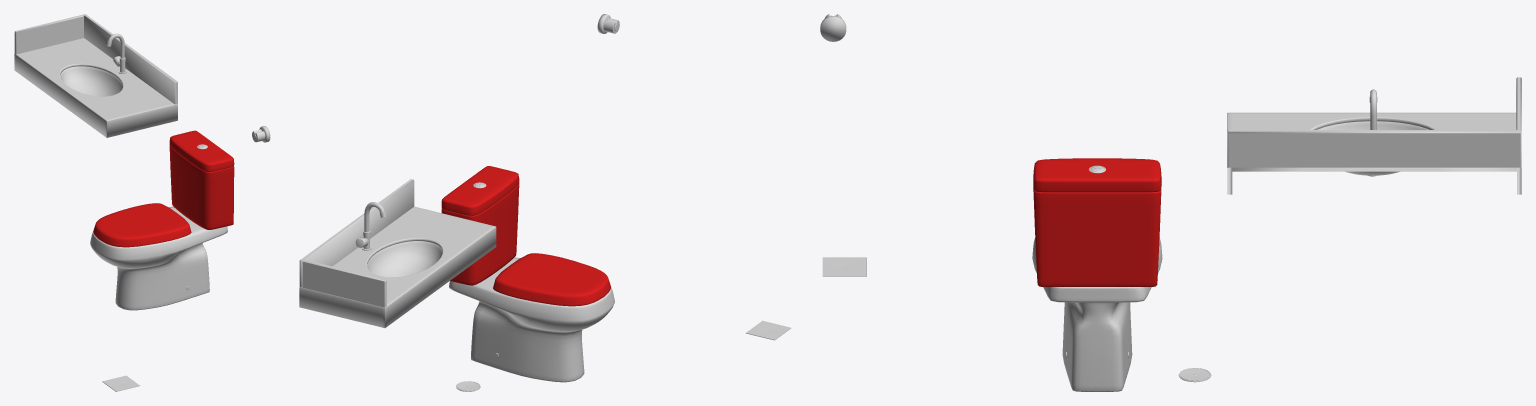
The model's file is SD_BanheiroSuite_ObjetosReflex.fbx.
The picture shows the model from 3 angles, left to right: view 1: azimuth 30°, elevation 25°; view 2: azimuth 150°, elevation 25°; view 3: azimuth 270°, elevation 25°; orthographic projection. The views are drawn at different scales.
Parts seen in each view (by area): view 1: SD_BanheiroSuite_ObjetosReflex; view 2: SD_BanheiroSuite_ObjetosReflex; view 3: SD_BanheiroSuite_ObjetosReflex.
Boxes of the visible parts, x1,y1,x2,y2 form: SD_BanheiroSuite_ObjetosReflex: (14,14,270,391); SD_BanheiroSuite_ObjetosReflex: (299,14,791,391); SD_BanheiroSuite_ObjetosReflex: (820,14,1521,391).
Bounding box in the file's own units: 106 × 121 × 214.
